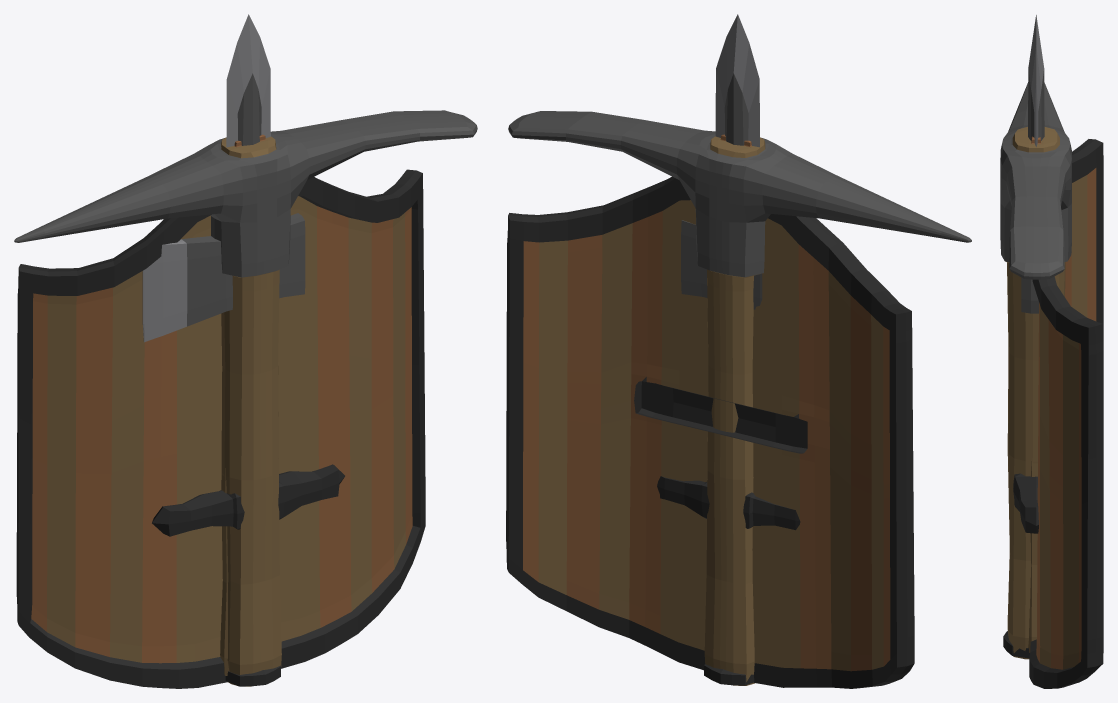
The model's file is Equipment.fbx.
The picture shows the model from 3 angles, left to right: view 1: azimuth 30°, elevation 25°; view 2: azimuth 150°, elevation 25°; view 3: azimuth 270°, elevation 25°; orthographic projection. The views are drawn at different scales.
Visible parts, largest first — view 1: Shield, Pickaxe, Iron sword, Axe; view 2: Shield, Pickaxe, Iron sword, Axe; view 3: Shield, Pickaxe, Iron sword, Axe.
Boxes of the visible parts, x1,y1,x2,y2 form: Shield: [16, 169, 425, 688]; Pickaxe: [14, 110, 477, 686]; Iron sword: [152, 14, 344, 686]; Axe: [142, 213, 305, 675]; Shield: [506, 176, 914, 688]; Pickaxe: [508, 111, 971, 685]; Iron sword: [657, 14, 800, 685]; Axe: [681, 220, 762, 309]; Shield: [1029, 139, 1103, 688]; Pickaxe: [1000, 82, 1071, 659]; Iron sword: [1003, 15, 1044, 658]; Axe: [1021, 277, 1038, 652].
Bounding box in the file's own units: 53.35 × 73.91 × 10.84.
